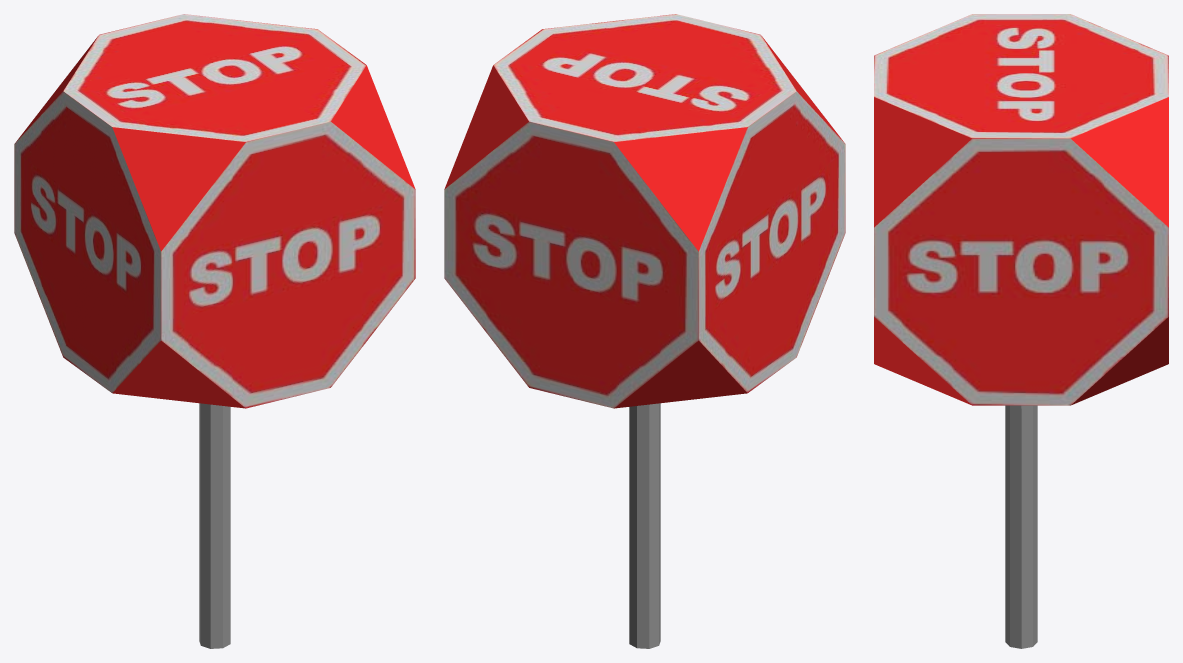
Rendered from stopSign_v3.fbx.
The picture shows the model from 3 angles, left to right: view 1: azimuth 30°, elevation 25°; view 2: azimuth 150°, elevation 25°; view 3: azimuth 270°, elevation 25°; orthographic projection.
Visible parts, largest first — view 1: stopSign_cube_01, stopSign_pole_01; view 2: stopSign_cube_01, stopSign_pole_01; view 3: stopSign_cube_01, stopSign_pole_01.
Boxes of the visible parts, left/top/right/bottom form: stopSign_cube_01: left=14, top=14, right=415, bottom=408; stopSign_pole_01: left=199, top=403, right=230, bottom=648; stopSign_cube_01: left=444, top=14, right=845, bottom=408; stopSign_pole_01: left=629, top=403, right=660, bottom=648; stopSign_cube_01: left=874, top=14, right=1168, bottom=405; stopSign_pole_01: left=1005, top=405, right=1037, bottom=648.
Size of the model in its own units: 8.64 by 18.3 by 8.64.
